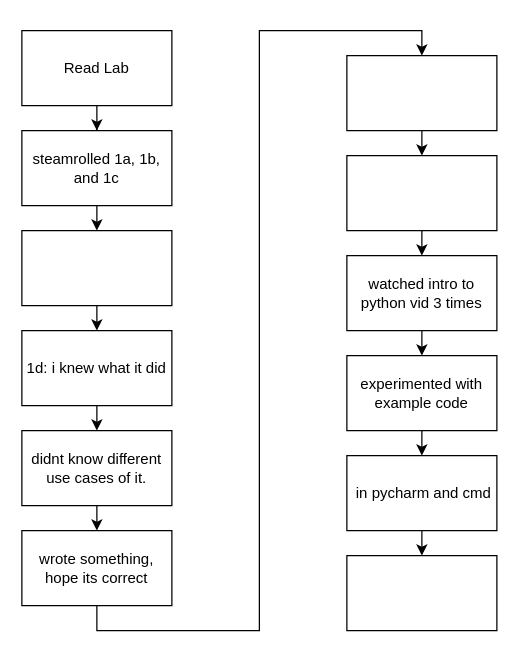
Image size: 519x663. Some labels were removed from this diagram. Here are the shapes that lost their labels. From the top down, the centre of each, then its label:
(x=421, y=92): 1e
(x=421, y=192): had an idea, but didnt know if it was correct
(x=96, y=267): got stuck on 1d and 1e
(x=421, y=592): found my answer :)
